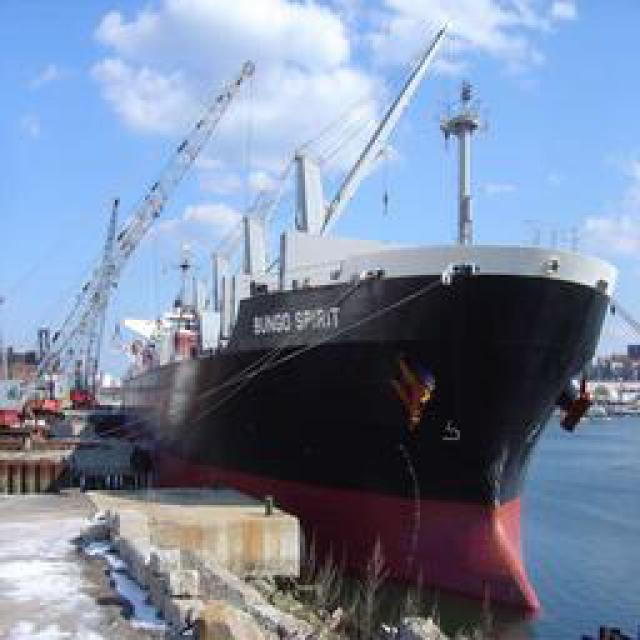Ship: (98, 131, 623, 606)
